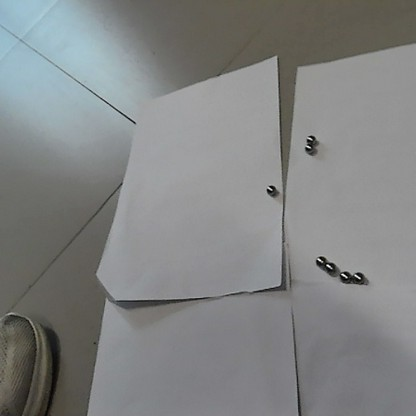ironball: (339, 270, 350, 281), (324, 260, 334, 272), (304, 142, 314, 154), (352, 270, 362, 281), (265, 185, 275, 194), (306, 133, 315, 142), (315, 256, 323, 266)
